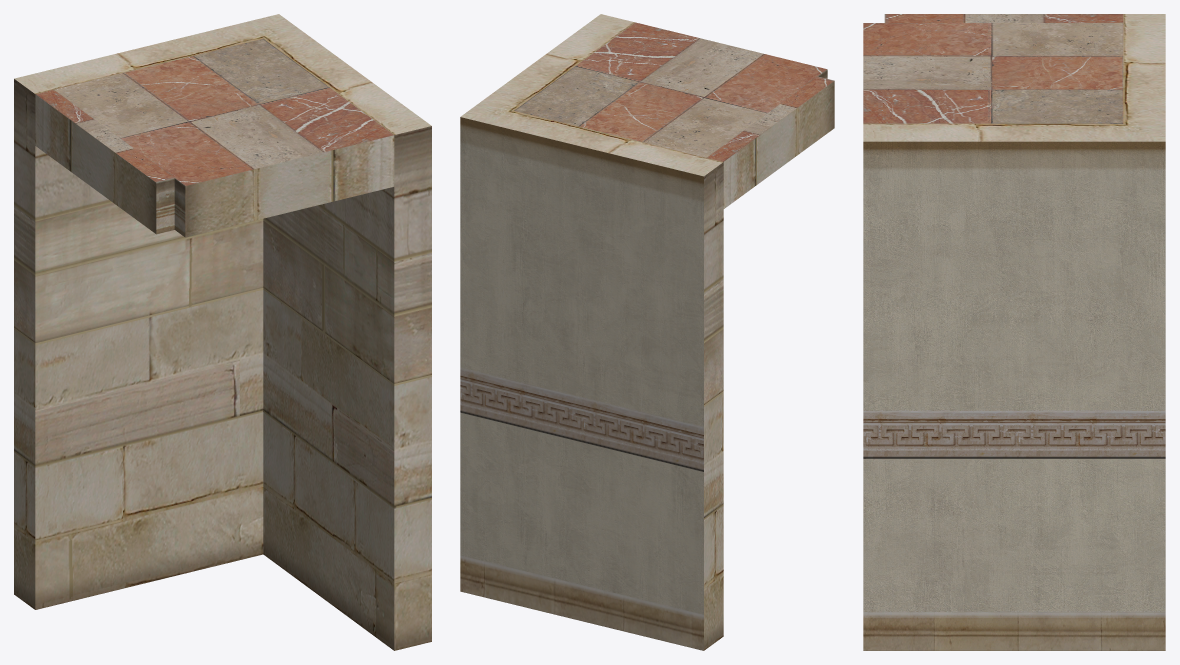
File: svspartawall4.dae
3 views of the same model, side by side, from view 1: azimuth 30°, elevation 25°; view 2: azimuth 150°, elevation 25°; view 3: azimuth 270°, elevation 25° (orthographic). The views are drawn at different scales.
Visible parts, largest first — view 1: unnamed_object6_copy40-0; view 2: unnamed_object6_copy40-0; view 3: unnamed_object6_copy40-0.
Part boxes in pixels (left/top/right/bottom): unnamed_object6_copy40-0: left=14, top=14, right=431, bottom=650; unnamed_object6_copy40-0: left=460, top=14, right=834, bottom=650; unnamed_object6_copy40-0: left=863, top=14, right=1165, bottom=650.
Bounding box in the file's own units: 215 × 400 × 215.
